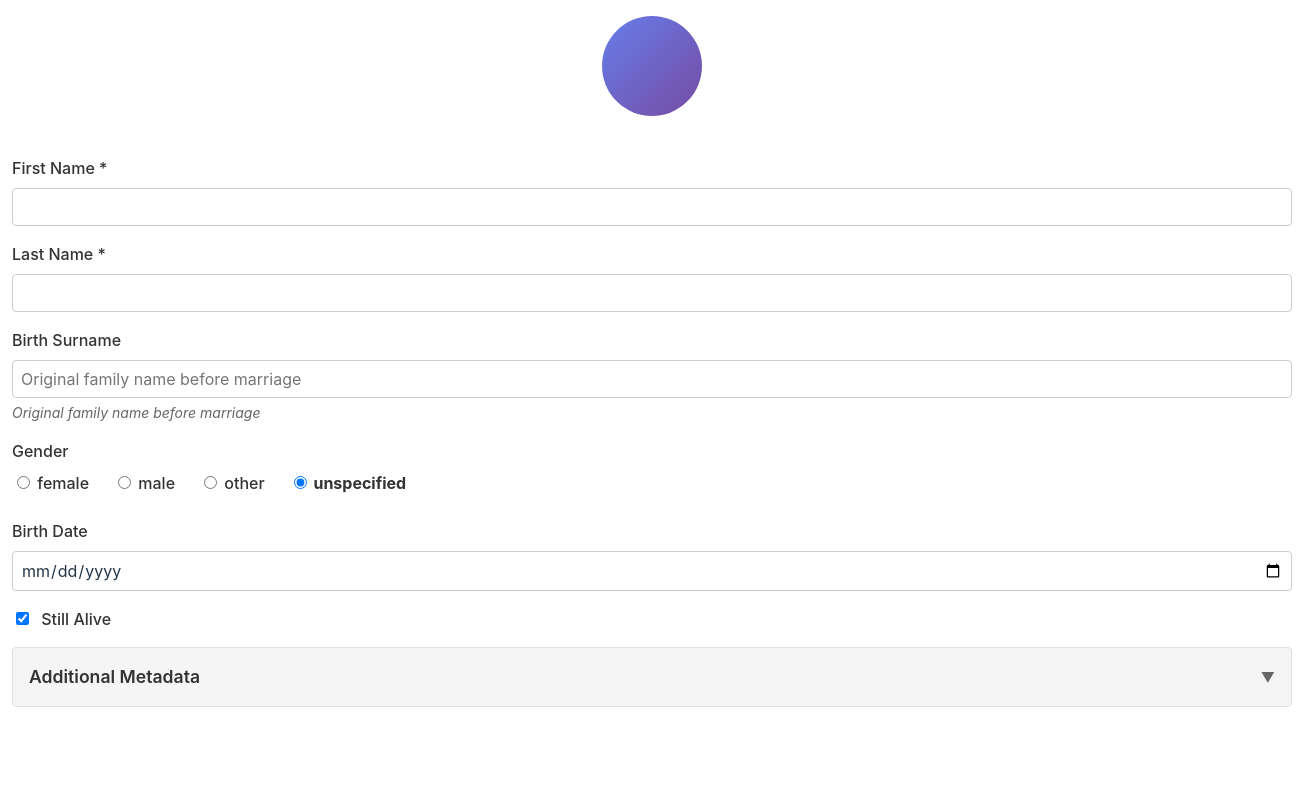
Test case: PersonFormFields - Photo Preview Integration › Part 1: Additional Metadata Positioning (After Death Date) › AC2: Functionality unchanged › should expand/collapse Additional Metadata section correctly
The image size is (1304, 800).
Click to expand
Click the button with class "section-header": (115, 676) [12,647,1292,707]
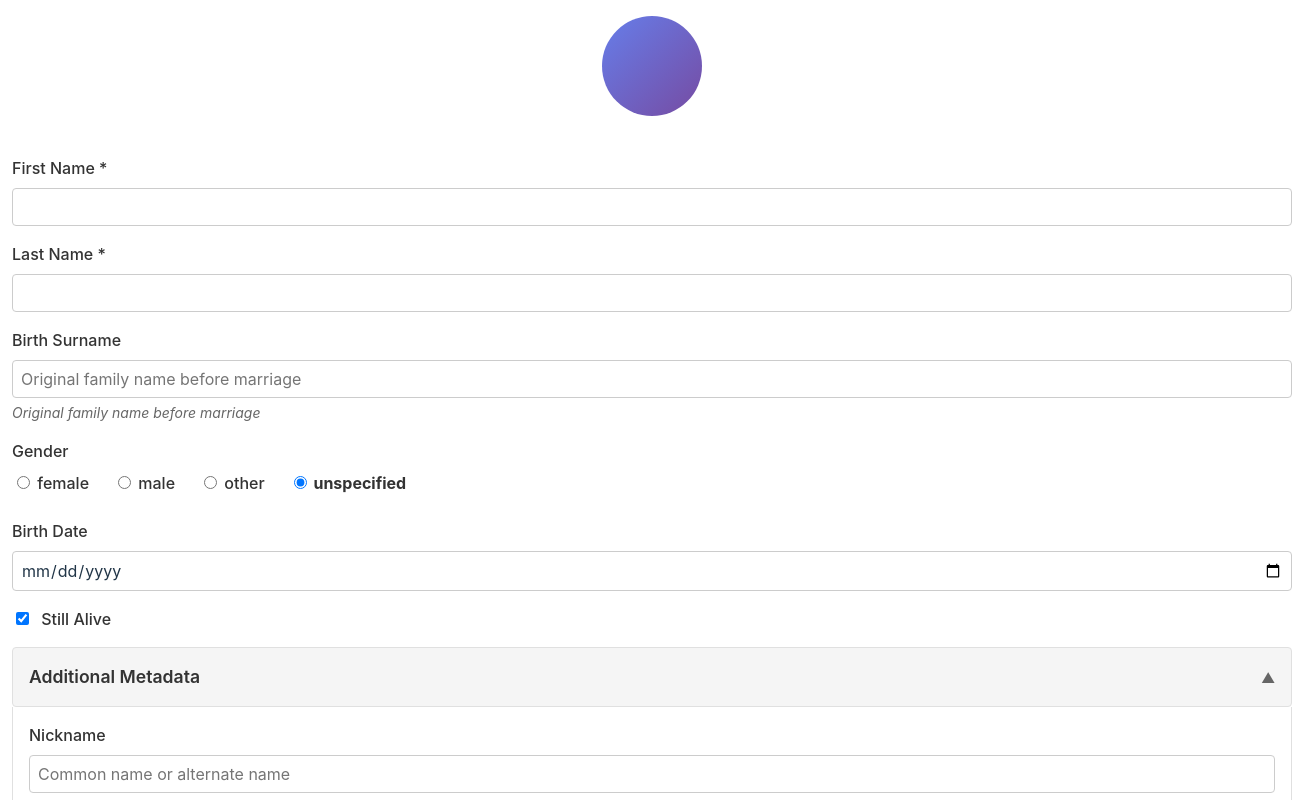
Check: the button with class "section-header" is expanded, box [12,647,1292,707]
